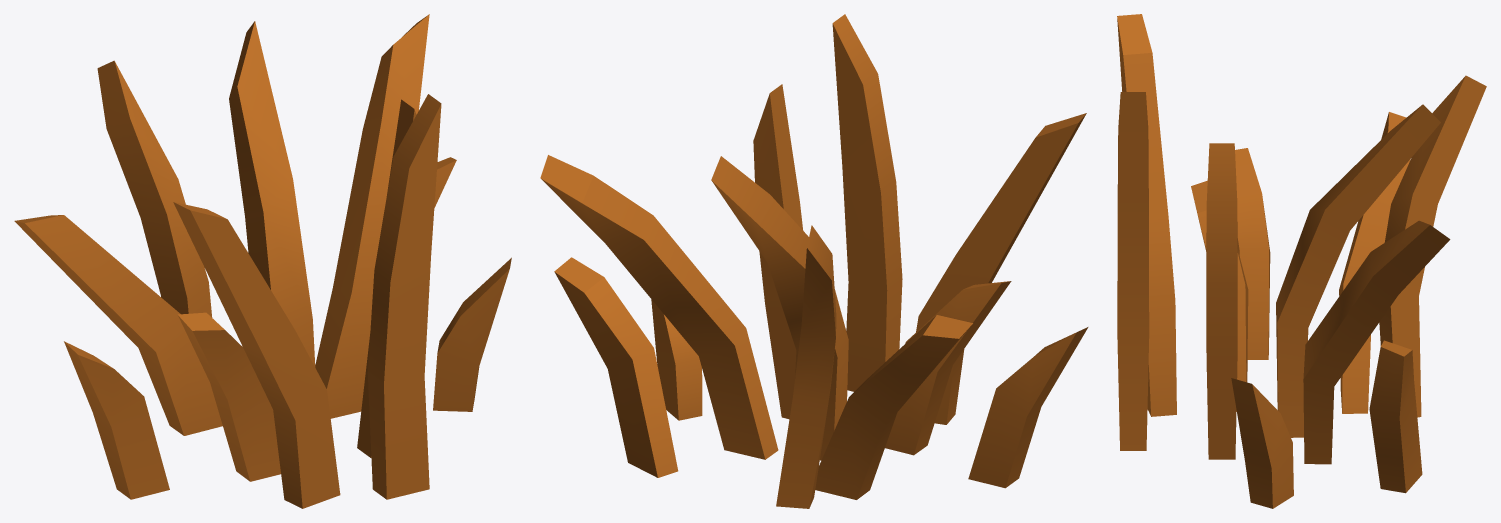
Rendered from usk_Grass.glb.
3 renders of one model, left to right at view 1: azimuth 30°, elevation 25°; view 2: azimuth 150°, elevation 25°; view 3: azimuth 270°, elevation 25°, orthographic. The views are drawn at different scales.
Visible parts, largest first — view 1: Grass_1; view 2: Grass_1; view 3: Grass_1.
Part boxes in pixels (x1,y1,x2,y2): Grass_1: [14, 14, 511, 508]; Grass_1: [540, 14, 1088, 508]; Grass_1: [1117, 14, 1486, 508].
Bounding box in the file's own units: 1.27 × 0.9906 × 0.9104.
Materials: 1 (1 with a texture image).
